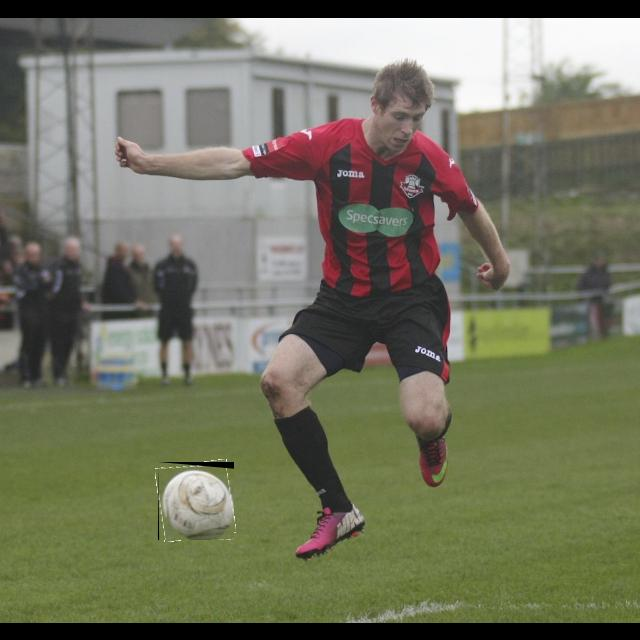Football: (158, 462, 234, 540)
